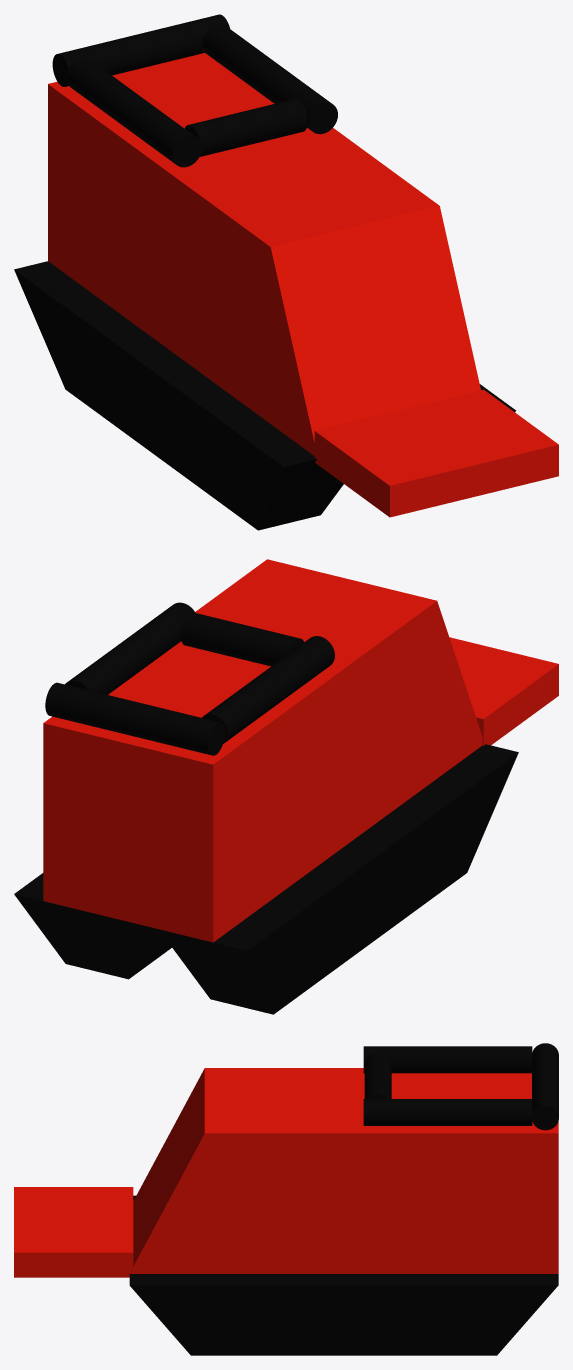
Rendered from PlayerModel.fbx.
The picture shows the model from 3 angles, top to bottom: view 1: azimuth 30°, elevation 25°; view 2: azimuth 150°, elevation 25°; view 3: azimuth 270°, elevation 25°; orthographic projection. The views are drawn at different scales.
Parts seen in each view (by area): view 1: Cabin, tracks, forks, Pipes; view 2: Cabin, tracks, Pipes, forks; view 3: Cabin, tracks, Pipes, forks.
Boxes of the visible parts, x1,y1,x2,y2 form: Cabin: (48,53,480,455); tracks: (14,261,516,530); forks: (314,389,558,517); Pipes: (52,14,337,167); Cabin: (43,559,482,942); tracks: (14,744,518,1014); Pipes: (45,602,334,755); forks: (449,637,558,745); Cabin: (129,1068,558,1273); tracks: (129,1195,558,1355); Pipes: (363,1043,558,1130); forks: (14,1187,133,1277).
Size of the model in its own units: 54.9 by 69.09 by 141.
